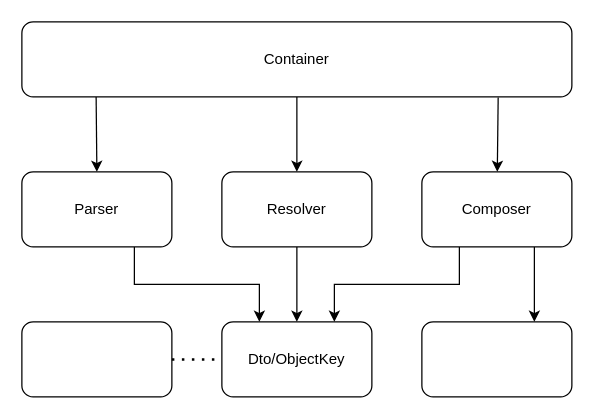
The diagram is 594 pixels wide and 419 high, and some of its shapes have lost their labels. The shapes that lost their labels are listed below. From the top down, each one's centre as x and y in pixels, then its label:
pixel 96 359: 'objectKey'
pixel 496 359: Spec Analyzer
